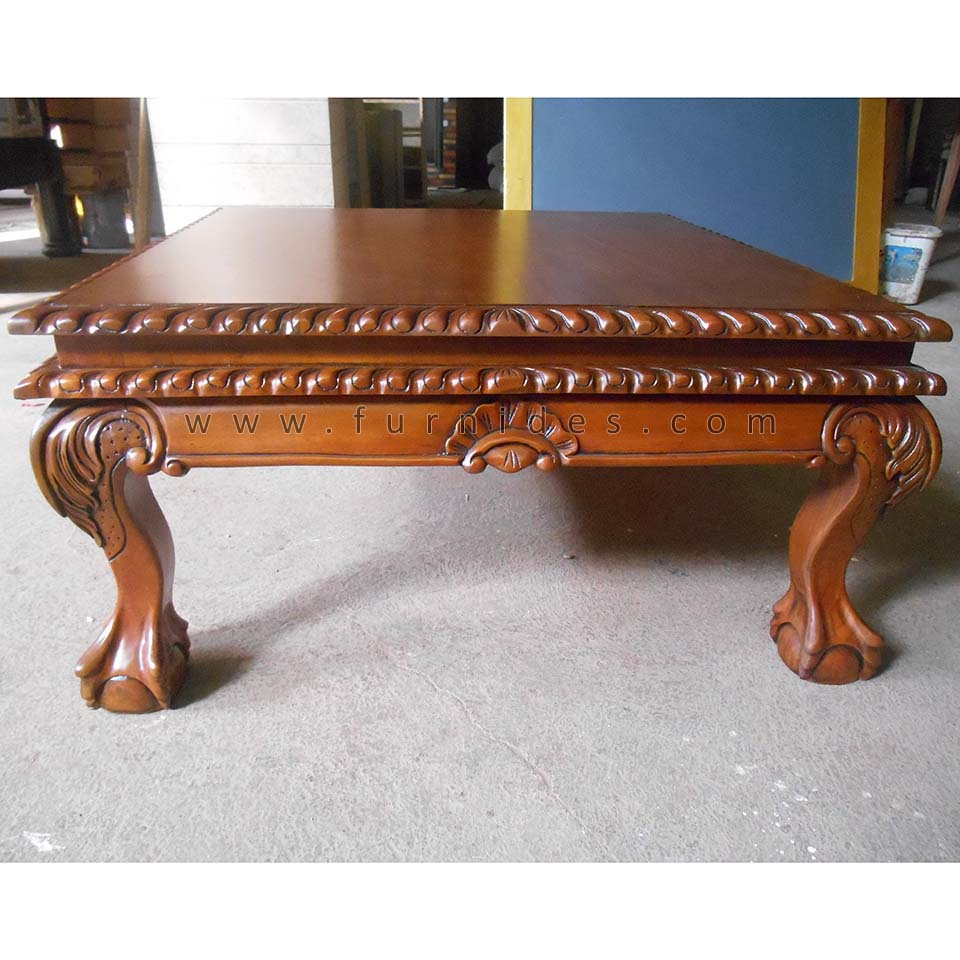Carving Table: (31, 184, 910, 717)
